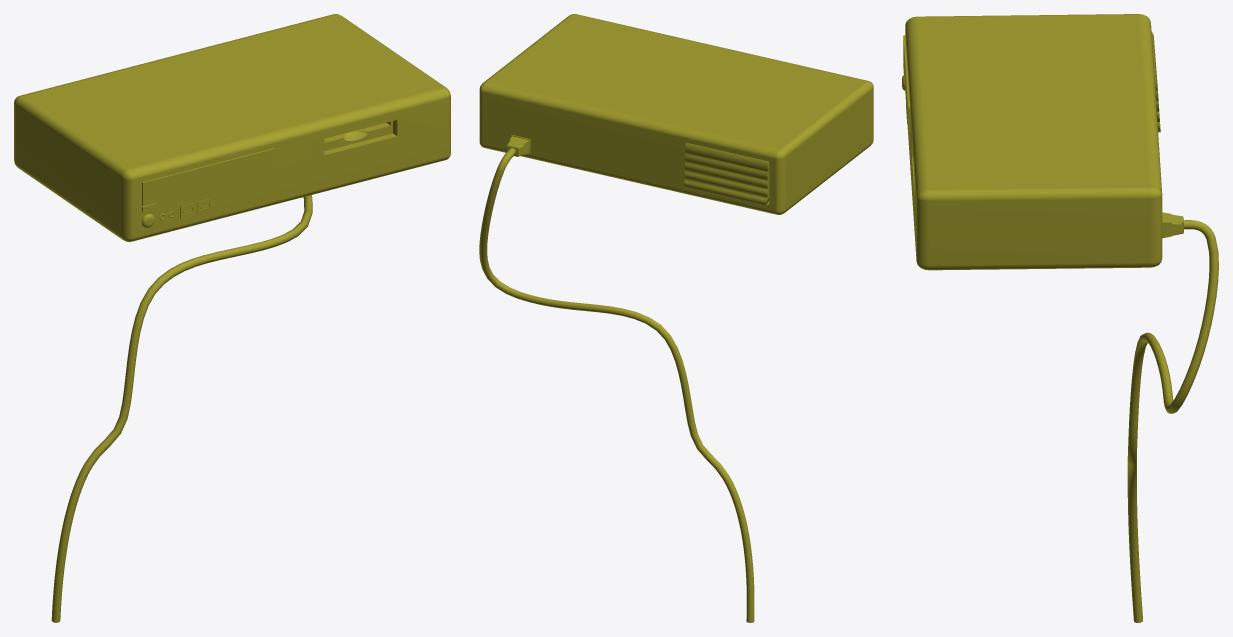
Rendered from Tower.fbx.
The picture shows the model from 3 angles, left to right: view 1: azimuth 30°, elevation 25°; view 2: azimuth 150°, elevation 25°; view 3: azimuth 270°, elevation 25°; orthographic projection. The views are drawn at different scales.
Visible parts, largest first — view 1: polySurface3, sweep3, pCube108; view 2: polySurface3, sweep3, pCube112; view 3: polySurface3, sweep3, pCube113.
Boxes of the visible parts, <box> form: polySurface3: <box>14,14,450,241</box>; sweep3: <box>51,195,312,622</box>; pCube108: <box>142,148,275,205</box>; polySurface3: <box>479,14,873,214</box>; sweep3: <box>479,148,754,622</box>; pCube112: <box>684,142,769,206</box>; polySurface3: <box>905,14,1162,270</box>; sweep3: <box>1127,220,1218,622</box>; pCube113: <box>1162,212,1183,238</box>.
Bounding box in the file's own units: 1279 × 1926 × 940.
